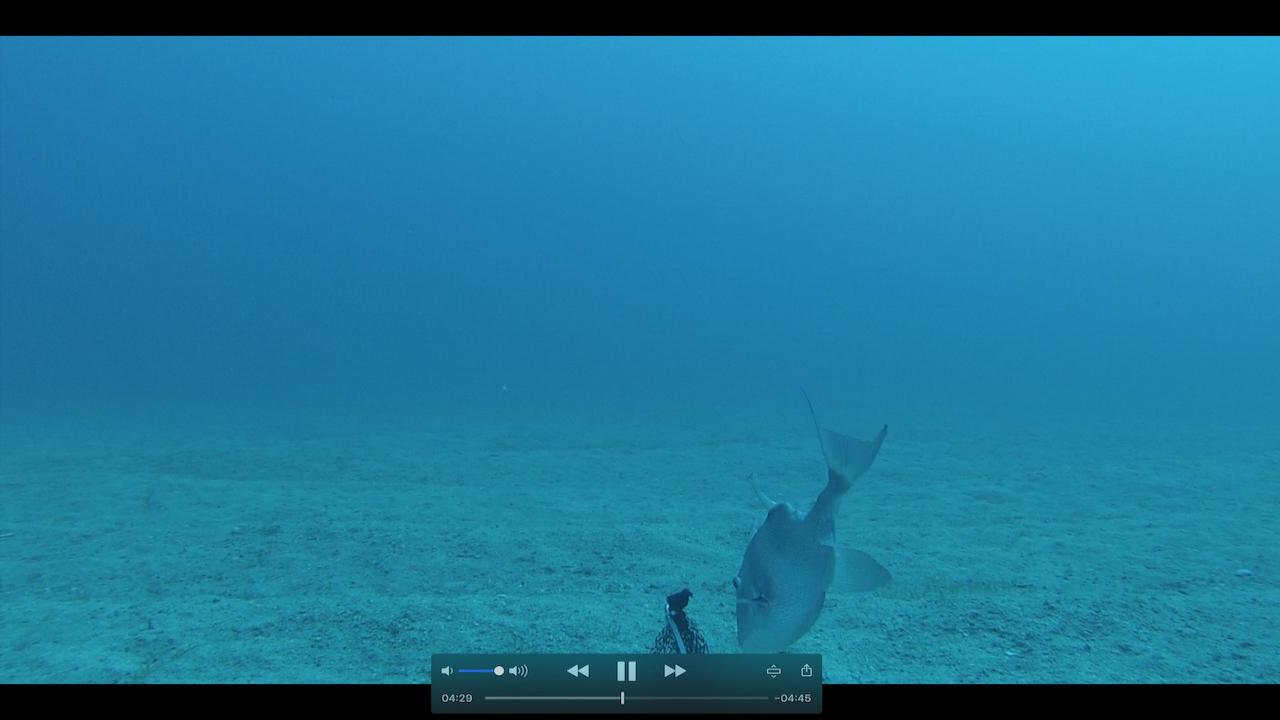balistes: (725, 380, 895, 652)
